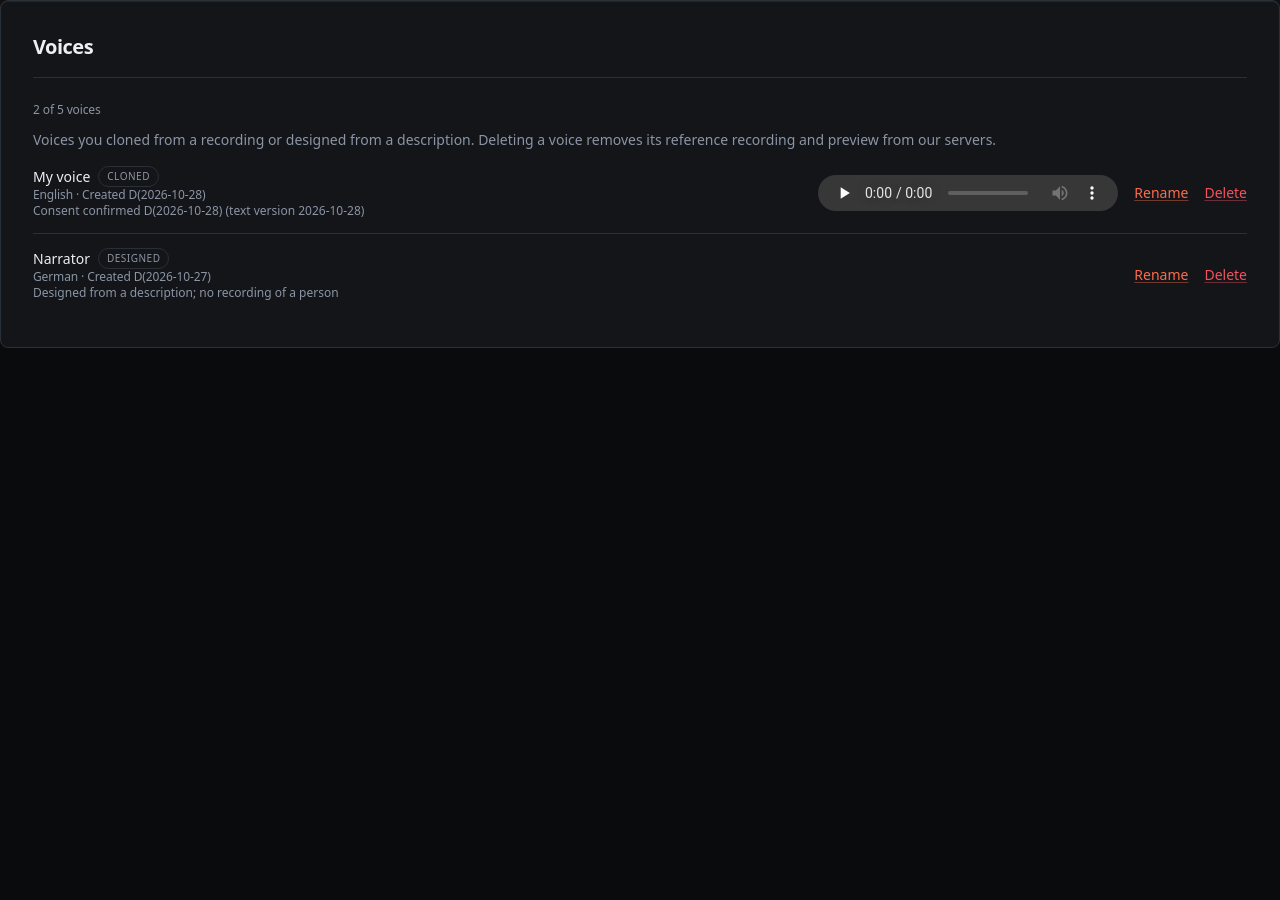
Test: Account → Voices (MM78) › delete asks first (the copy says generated files keep playing), then DELETEs and refetches
The image size is (1280, 900).
Expected: the text "My voice" is shown, x1=33 y1=166 x2=90 y2=186
Click the button "Delete" in the row of "My voice" at (1226, 192), box x1=1204 y1=182 x2=1247 y2=202
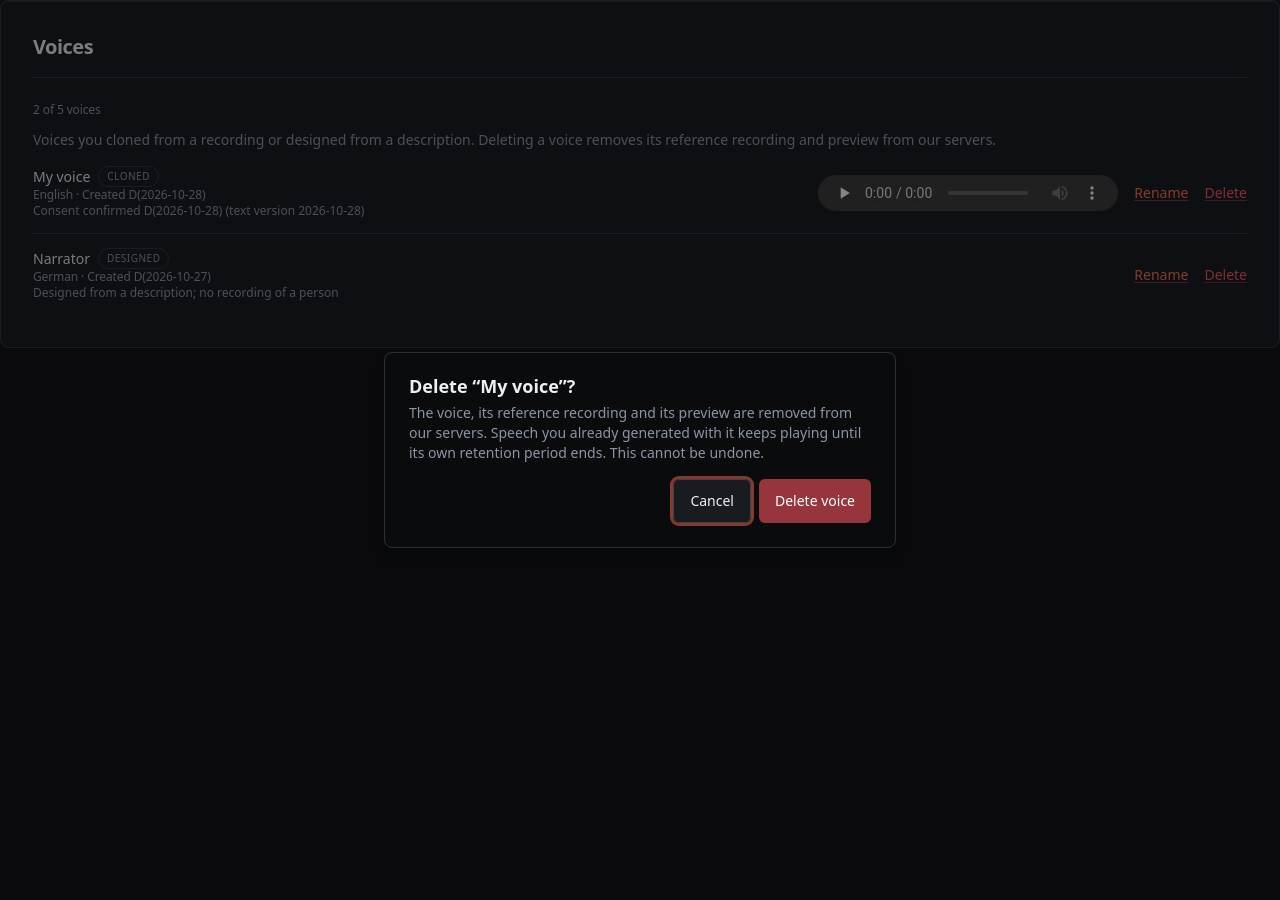
Expected: the text "keeps playing until its own retention period ends" is shown, x1=409 y1=403 x2=861 y2=462
Click the button "Delete voice" at (815, 501), box x1=759 y1=479 x2=871 y2=523
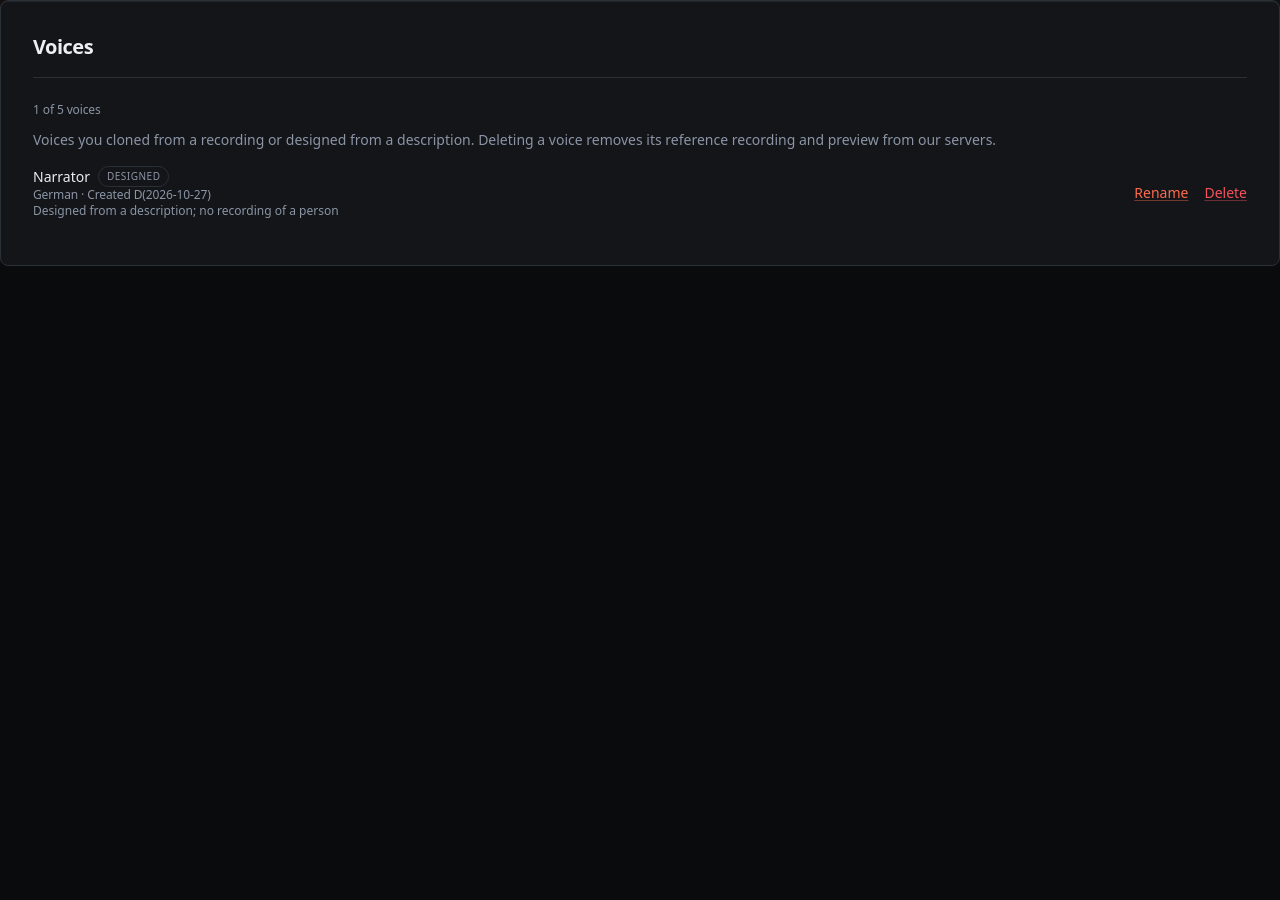
Expected: the text "My voice" is gone
Expected: the text with test id "voices-usage" reads "1 of 5 voices", x1=33 y1=101 x2=101 y2=118
